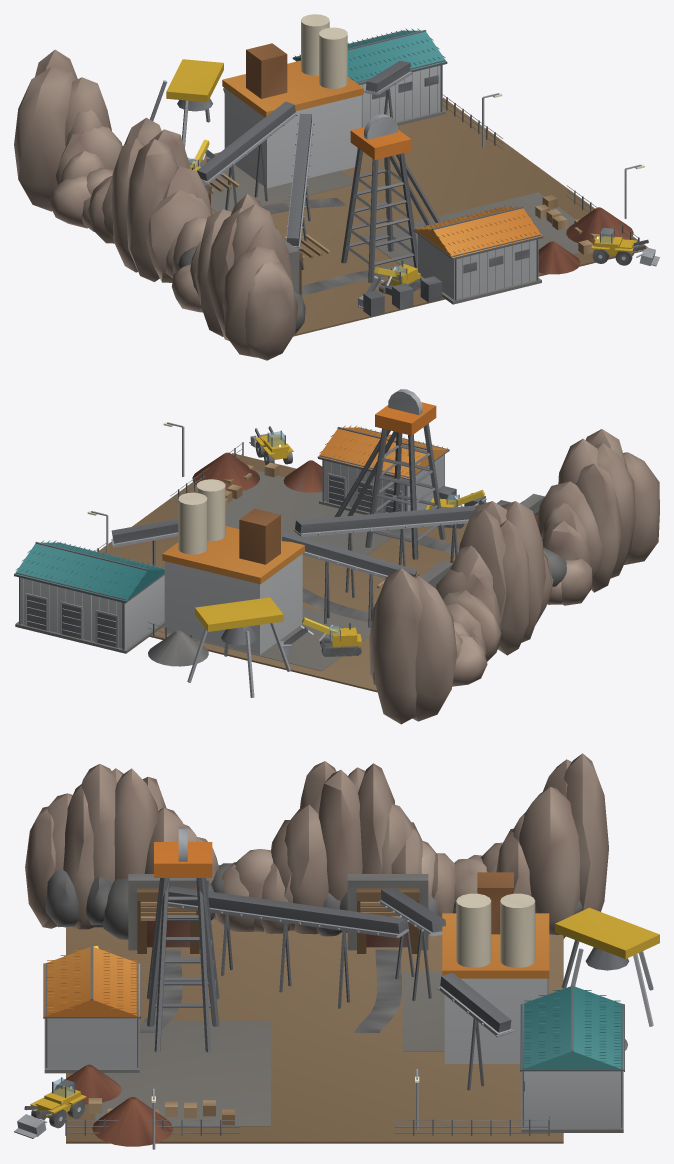
File: Mine_P2.fbx
The picture shows the model from 3 angles, top to bottom: view 1: azimuth 30°, elevation 25°; view 2: azimuth 150°, elevation 25°; view 3: azimuth 270°, elevation 25°; orthographic projection. The views are drawn at different scales.
Visible parts, largest first — view 1: Mine.Cliff, Mine.Apron, Mine.Plant, Mine.Winder, Mine.Headframe, Mine.Crusher, Mine.Conv1, Mine.LoadGantry, Mine.Clutter, Mine.Conv0, Mine.Loader, Mine.Spoil0 (+7 smaller); view 2: Mine.Cliff, Mine.Apron, Mine.Plant, Mine.Crusher, Mine.Headframe, Mine.Winder, Mine.Conv0, Mine.LoadGantry, Mine.Conv1, Mine.Excav2, Mine.Spoil2, Mine.Spoil0 (+8 smaller); view 3: Mine.Apron, Mine.Cliff, Mine.Plant, Mine.Crusher, Mine.Winder, Mine.Headframe, Mine.Conv0, Mine.LoadGantry, Mine.Adit1, Mine.Adit0, Mine.Spoil0, Mine.Conv1 (+7 smaller).
Part boxes in pixels (<box>): Mine.Cliff: <box>14,49,305,360</box>; Mine.Apron: <box>188,97,647,336</box>; Mine.Plant: <box>222,14,363,188</box>; Mine.Winder: <box>412,205,543,304</box>; Mine.Headframe: <box>341,114,440,283</box>; Mine.Crusher: <box>292,28,447,127</box>; Mine.Conv1: <box>197,101,297,210</box>; Mine.LoadGantry: <box>150,59,224,148</box>; Mine.Clutter: <box>363,195,599,316</box>; Mine.Conv0: <box>285,113,314,269</box>; Mine.Loader: <box>591,227,659,266</box>; Mine.Spoil0: <box>566,207,633,245</box>; Mine.Cliff: <box>369,429,659,724</box>; Mine.Apron: <box>99,453,467,692</box>; Mine.Plant: <box>162,479,304,654</box>; Mine.Crusher: <box>14,540,164,653</box>; Mine.Headframe: <box>334,389,445,559</box>; Mine.Winder: <box>317,425,449,514</box>; Mine.Conv0: <box>293,503,505,597</box>; Mine.LoadGantry: <box>187,597,290,697</box>; Mine.Conv1: <box>281,531,417,627</box>; Mine.Excav2: <box>279,617,361,656</box>; Mine.Spoil2: <box>148,630,208,666</box>; Mine.Spoil0: <box>192,452,259,490</box>; Mine.Apron: <box>66,919,563,1143</box>; Mine.Cliff: <box>25,753,608,939</box>; Mine.Plant: <box>442,872,549,1063</box>; Mine.Crusher: <box>520,985,624,1132</box>; Mine.Winder: <box>43,945,140,1073</box>; Mine.Headframe: <box>147,827,219,1052</box>; Mine.Conv0: <box>168,886,408,1008</box>; Mine.LoadGantry: <box>555,907,659,1026</box>; Mine.Adit1: <box>347,874,428,953</box>; Mine.Adit0: <box>128,874,208,953</box>; Mine.Spoil0: <box>92,1097,173,1146</box>; Mine.Conv1: <box>377,887,445,1000</box>.
Size of the model in its own units: 8713 by 3116 by 8829.
